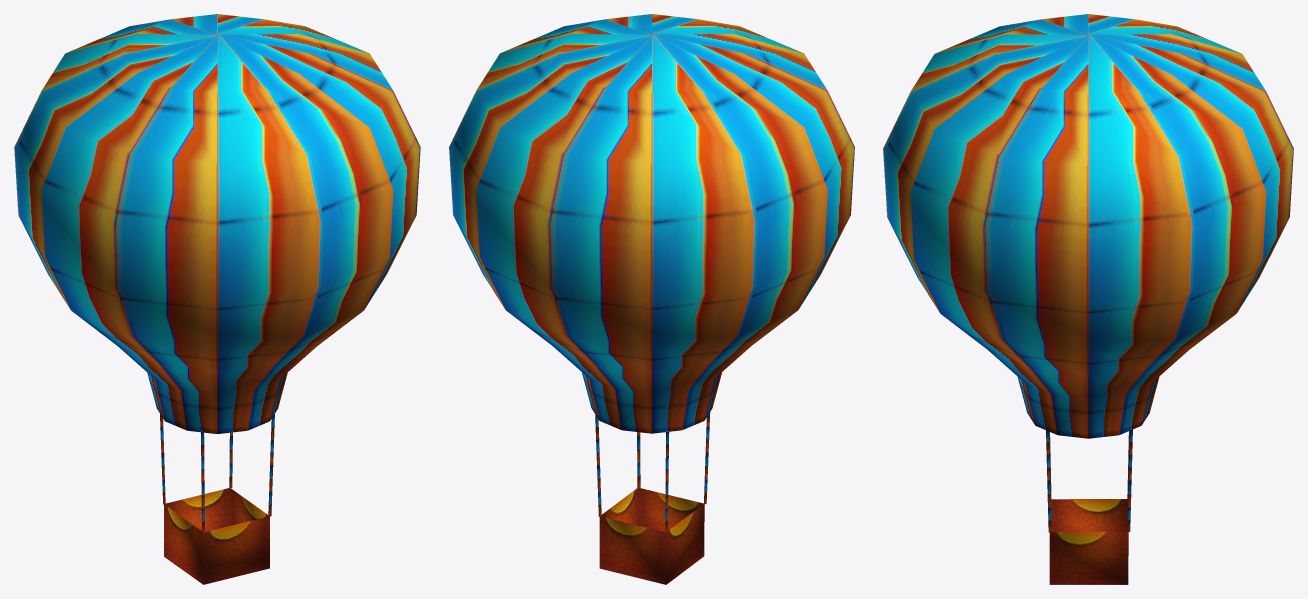
The model's file is furni_0201001.FBX.
3 renders of one model, left to right at view 1: azimuth 30°, elevation 25°; view 2: azimuth 150°, elevation 25°; view 3: azimuth 270°, elevation 25°, orthographic.
Parts seen in each view (by area): view 1: furni_0201001; view 2: furni_0201001; view 3: furni_0201001.
Part boxes in pixels (box(x1,y1,x2,y2)): furni_0201001: box(14, 14, 420, 584); furni_0201001: box(449, 14, 854, 584); furni_0201001: box(883, 14, 1293, 584).
Size of the model in its own units: 680 by 975 by 680.
Materials: 1 (1 with a texture image).
